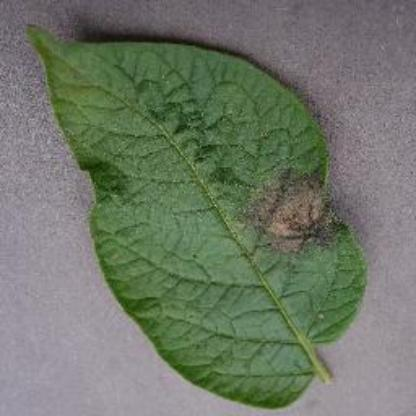Late-Blight: (17, 16, 359, 412)
